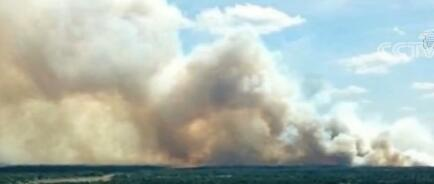smoke: (1, 24, 430, 167)
